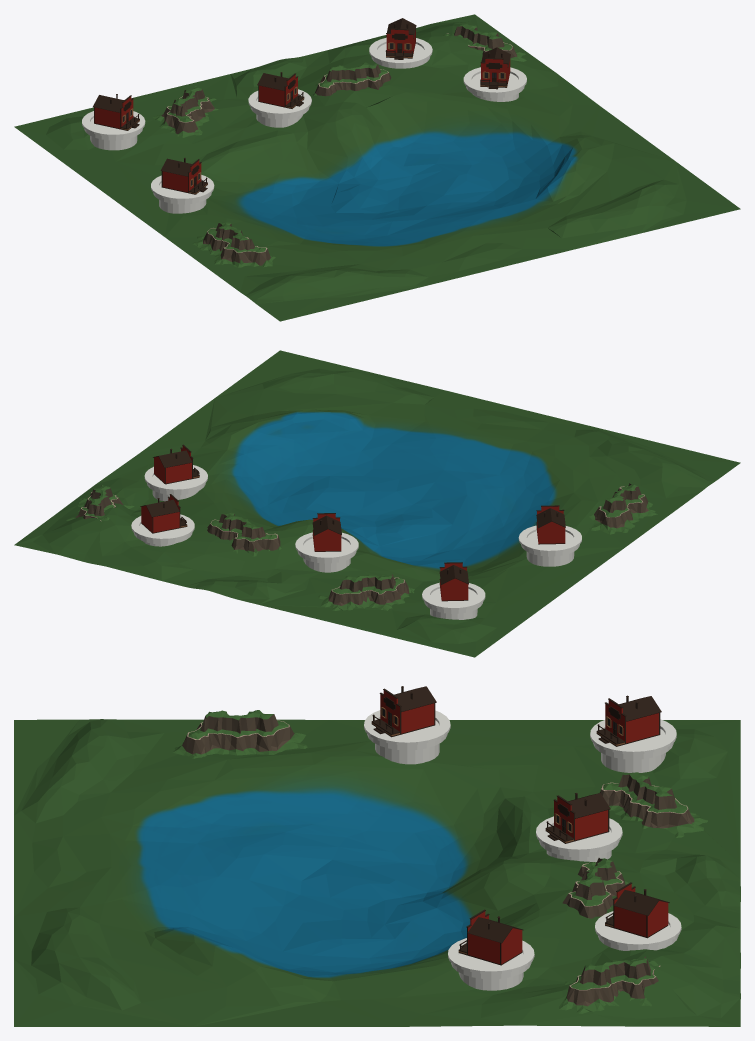
File: terrain.gltf
The picture shows the model from 3 angles, top to bottom: view 1: azimuth 30°, elevation 25°; view 2: azimuth 150°, elevation 25°; view 3: azimuth 270°, elevation 25°; orthographic projection. The views are drawn at different scales.
Parts seen in each view (by area): view 1: terrain, mountains_T3, mountains_T2, mountains_T1, platform4, platform5, western-house-gunsmith_T3, western-house-gunsmith_T4, western-house-gunsmith_T5, platform2, platform1, western-house-gunsmith_T1 (+3 smaller); view 2: terrain, mountains_T2, mountains_T3, mountains_T1, platform5, platform2, platform4, western-house-gunsmith_T2, western-house-gunsmith_T1, platform1, western-house-gunsmith_T3, western-house-gunsmith_T5 (+3 smaller); view 3: terrain, mountains_T3, mountains_T2, mountains_T4, platform5, platform4, western-house-gunsmith_T3, western-house-gunsmith_T5, western-house-gunsmith_T4, platform1, mountains_T1, western-house-gunsmith_T1 (+3 smaller).
Boxes of the visible parts, <box> form: terrain: <box>14,14,740,321</box>; mountains_T3: <box>192,222,275,267</box>; mountains_T2: <box>152,86,218,137</box>; mountains_T1: <box>313,62,391,96</box>; platform4: <box>82,111,145,150</box>; platform5: <box>151,175,214,213</box>; western-house-gunsmith_T3: <box>160,158,207,194</box>; western-house-gunsmith_T4: <box>257,72,304,108</box>; western-house-gunsmith_T5: <box>93,94,139,130</box>; platform2: <box>248,89,311,127</box>; platform1: <box>463,67,526,101</box>; western-house-gunsmith_T1: <box>480,47,510,89</box>; terrain: <box>14,350,740,657</box>; mountains_T2: <box>318,574,414,610</box>; mountains_T3: <box>589,483,657,534</box>; mountains_T1: <box>207,512,281,556</box>; platform5: <box>518,525,581,566</box>; platform2: <box>295,532,358,572</box>; platform4: <box>422,582,485,619</box>; western-house-gunsmith_T2: <box>140,494,187,533</box>; western-house-gunsmith_T1: <box>153,444,199,484</box>; platform1: <box>144,465,207,501</box>; western-house-gunsmith_T3: <box>536,505,565,544</box>; western-house-gunsmith_T5: <box>439,562,468,601</box>; terrain: <box>14,719,740,1026</box>; mountains_T3: <box>173,710,307,758</box>; mountains_T2: <box>599,772,707,837</box>; mountains_T4: <box>559,956,660,1013</box>; platform5: <box>364,710,450,764</box>; platform4: <box>590,719,676,772</box>; western-house-gunsmith_T3: <box>371,686,436,737</box>; western-house-gunsmith_T5: <box>596,695,661,746</box>; western-house-gunsmith_T4: <box>545,793,610,843</box>; platform1: <box>448,938,534,990</box>; mountains_T1: <box>562,858,635,918</box>; western-house-gunsmith_T1: <box>458,909,523,965</box>.
Size of the model in its own units: 6001 by 886 by 6003.
3 materials, 2 textured.
